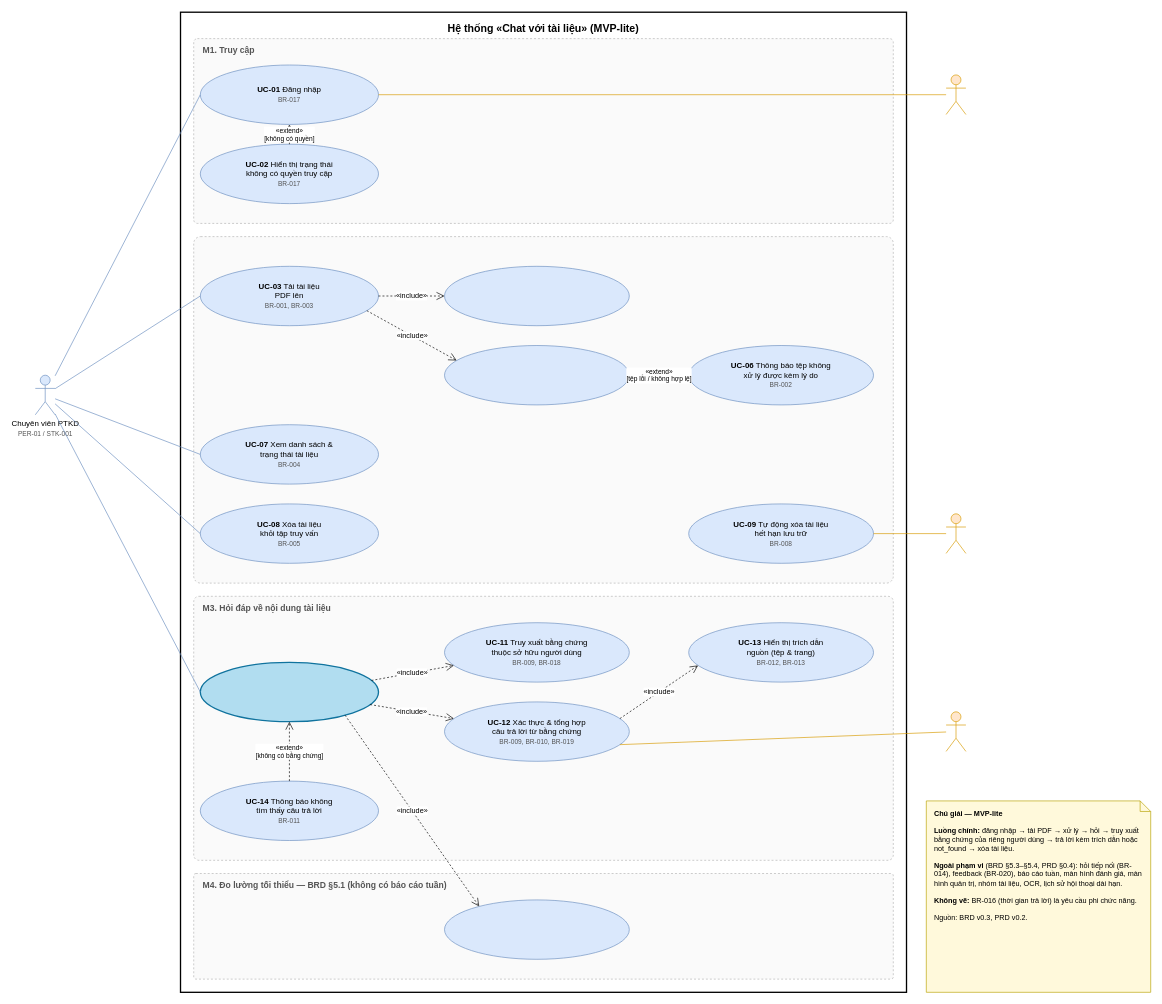
The diagram is 1162 pixels wide and 1004 high, and some of its shapes have lost their labels. Each missing label, with the box of its shape:
Bộ lập lịch thu hồi dữ liệu: (945, 513, 966, 553)
Dịch vụ AI ranh giới BR-019: (945, 711, 966, 751)
Hệ thống xác thực [TBD: SRS/SAD]: (945, 74, 966, 115)
M2. Quản lý tài liệu: (193, 236, 893, 583)
UC-04 Kiểm tra giới hạn tệp (dung lượng, số lượng) BR-006, BR-007: (444, 266, 629, 326)
UC-05 Xử lý tài liệu PDF (trích xuất nội dung) BR-001: (444, 345, 629, 405)
UC-10 Đặt câu hỏi về tài liệu BR-009, BR-015: (199, 661, 379, 722)
UC-15 Ghi nhận số liệu tối thiểu (không lưu nội dung) BR-021 · US-020: (444, 899, 629, 959)
